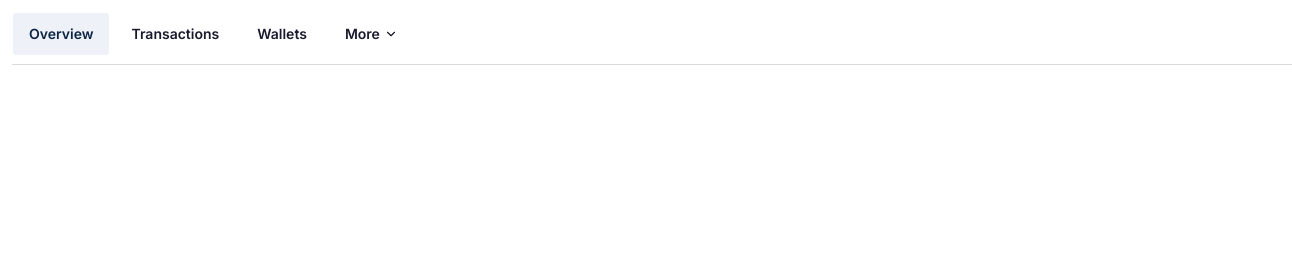
Test: FinanceNavigation › does not change views when the menu is dismissed
Click the button with aria-label "More finance views" at (371, 34), box [328,12,415,56]
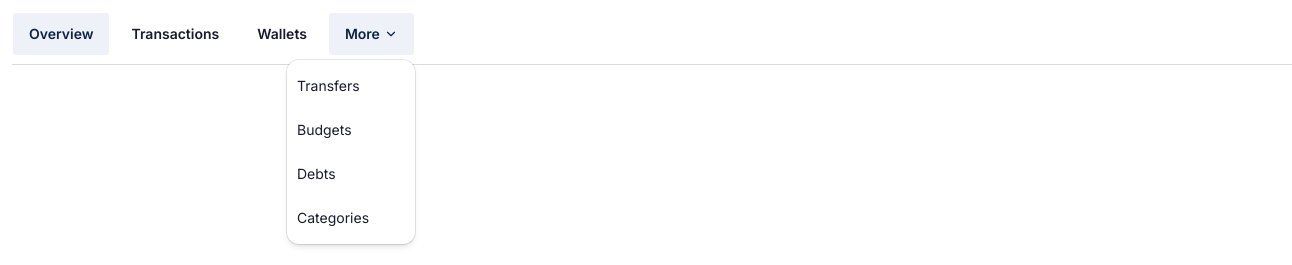
Press Escape in the menu, box [287,60,415,244]
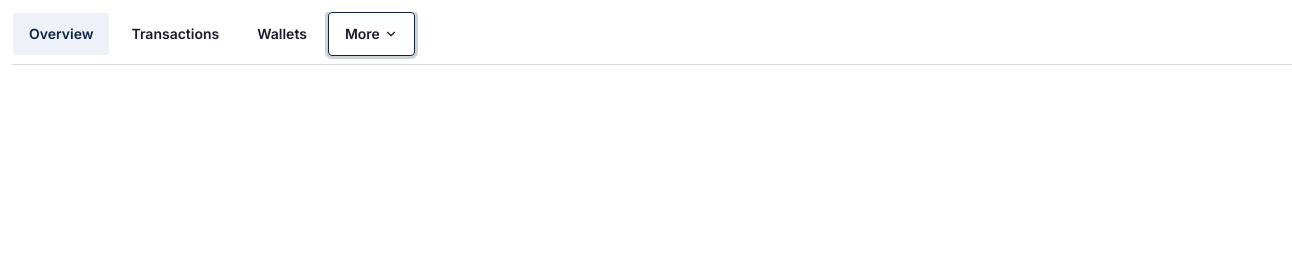
Expected: the menu is gone
